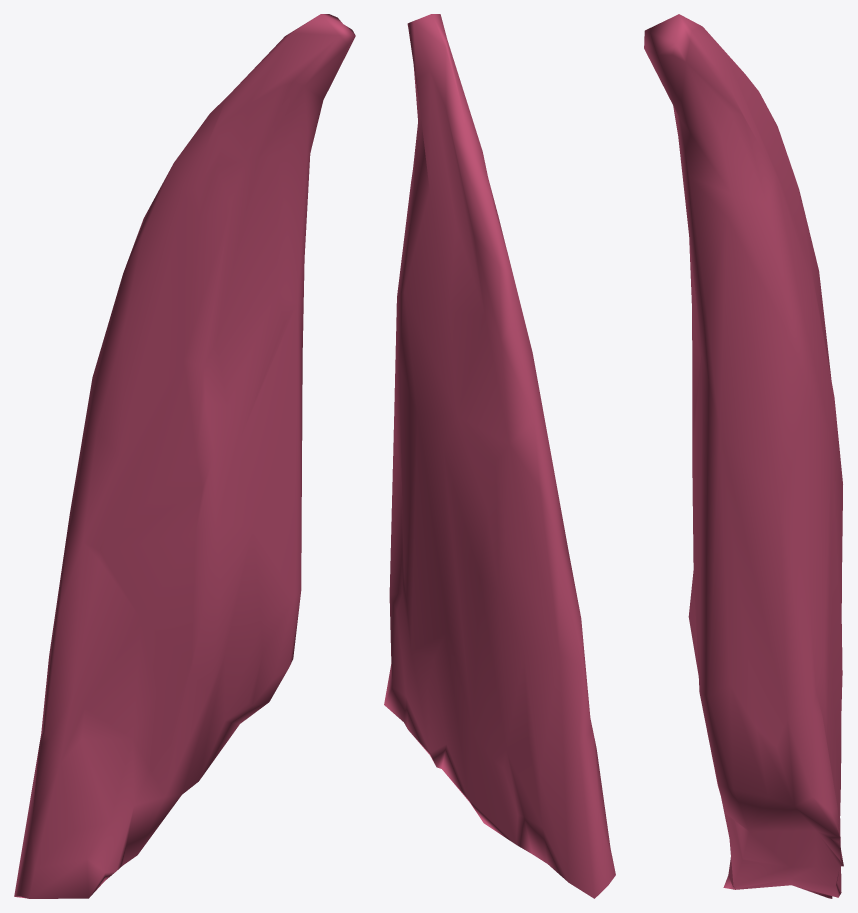
3 views of the same model, side by side, from view 1: azimuth 30°, elevation 25°; view 2: azimuth 150°, elevation 25°; view 3: azimuth 270°, elevation 25° (orthographic). The views are drawn at different scales.
Visible parts, largest first — view 1: 左侧二腹肌前腹; view 2: 左侧二腹肌前腹; view 3: 左侧二腹肌前腹.
Boxes of the visible parts, x1,y1,x2,y2 form: 左侧二腹肌前腹: (14, 14, 355, 898); 左侧二腹肌前腹: (384, 14, 615, 898); 左侧二腹肌前腹: (644, 14, 843, 898).
Bounding box in the file's own units: 0.0177 × 0.0527 × 0.00933.
